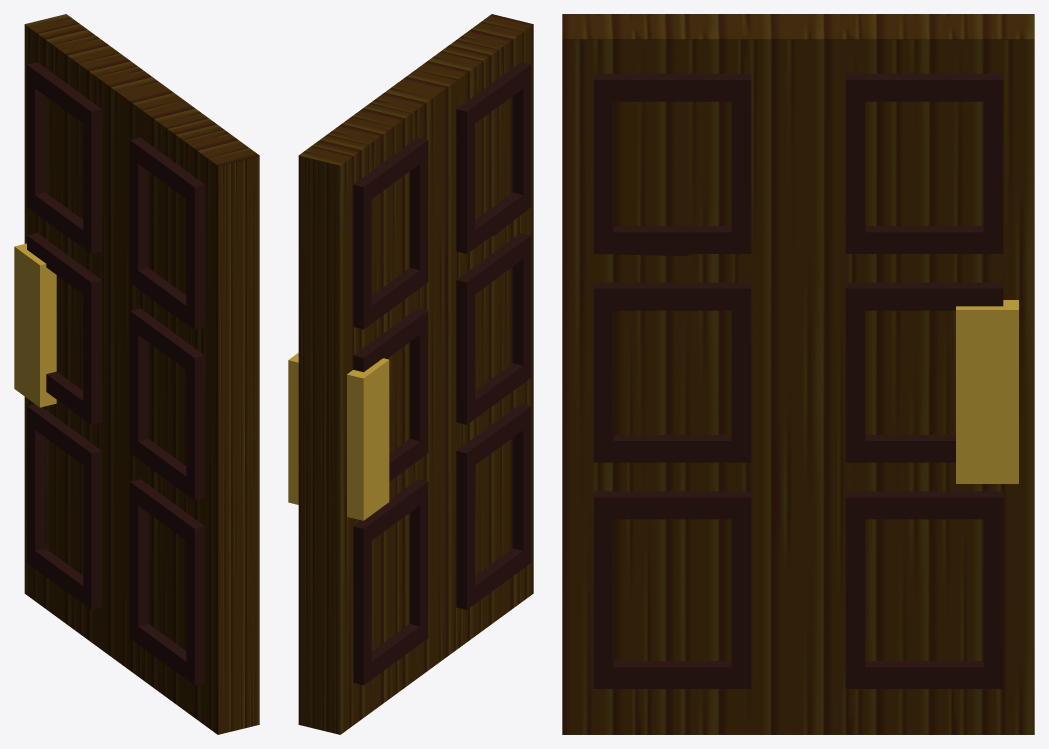
File: door-door.fbx
The picture shows the model from 3 angles, left to right: view 1: azimuth 30°, elevation 25°; view 2: azimuth 150°, elevation 25°; view 3: azimuth 270°, elevation 25°; orthographic projection. The views are drawn at different scales.
Visible parts, largest first — view 1: Door, DoorShard.011, DoorShard.005, DoorShard.006, DoorShard.002, DoorShard.008, DoorShard, DoorShard.001, DoorShard.004, DoorShard.003, DoorShard.007, DoorShard.009 (+1 smaller); view 2: Door, DoorShard.007, DoorShard, DoorShard.005, DoorShard.006, DoorShard.010, DoorShard.002, DoorShard.003, DoorShard.009, DoorShard.008, DoorShard.001, DoorShard.004 (+1 smaller); view 3: Door, DoorShard.005, DoorShard.011, DoorShard.008, DoorShard.010, DoorShard.004, DoorShard.003, DoorShard.006, DoorShard.007, DoorShard, DoorShard.001, DoorShard.002 (+1 smaller).
Boxes of the visible parts, x1,y1,x2,y2 form: Door: [14, 14, 259, 730]; DoorShard.011: [117, 544, 259, 734]; DoorShard.005: [14, 210, 142, 354]; DoorShard.006: [130, 279, 259, 479]; DoorShard.002: [148, 104, 259, 297]; DoorShard.008: [69, 348, 259, 572]; DoorShard: [25, 14, 161, 134]; DoorShard.001: [80, 84, 189, 204]; DoorShard.004: [105, 190, 259, 370]; DoorShard.003: [24, 129, 127, 231]; DoorShard.007: [14, 280, 72, 492]; DoorShard.009: [61, 423, 148, 614]; Door: [288, 14, 533, 734]; DoorShard.007: [288, 393, 408, 627]; DoorShard: [298, 85, 435, 284]; DoorShard.005: [288, 235, 474, 419]; DoorShard.006: [428, 229, 533, 344]; DoorShard.010: [298, 578, 448, 730]; DoorShard.002: [423, 14, 533, 147]; DoorShard.003: [298, 190, 443, 373]; DoorShard.009: [389, 467, 507, 632]; DoorShard.008: [400, 339, 533, 475]; DoorShard.001: [394, 64, 499, 196]; DoorShard.004: [432, 110, 533, 237]; Door: [562, 14, 1034, 734]; DoorShard.005: [721, 196, 1034, 402]; DoorShard.011: [562, 514, 801, 734]; DoorShard.008: [562, 336, 907, 557]; DoorShard.010: [770, 572, 1034, 734]; DoorShard.004: [562, 105, 838, 288]; DoorShard.003: [781, 113, 1034, 293]; DoorShard.006: [562, 239, 819, 423]; DoorShard.007: [884, 338, 1034, 603]; DoorShard: [801, 14, 1034, 184]; DoorShard.001: [663, 14, 918, 165]; DoorShard.002: [562, 14, 731, 199].
Bounding box in the file's own units: 25.2 × 182 × 112.
